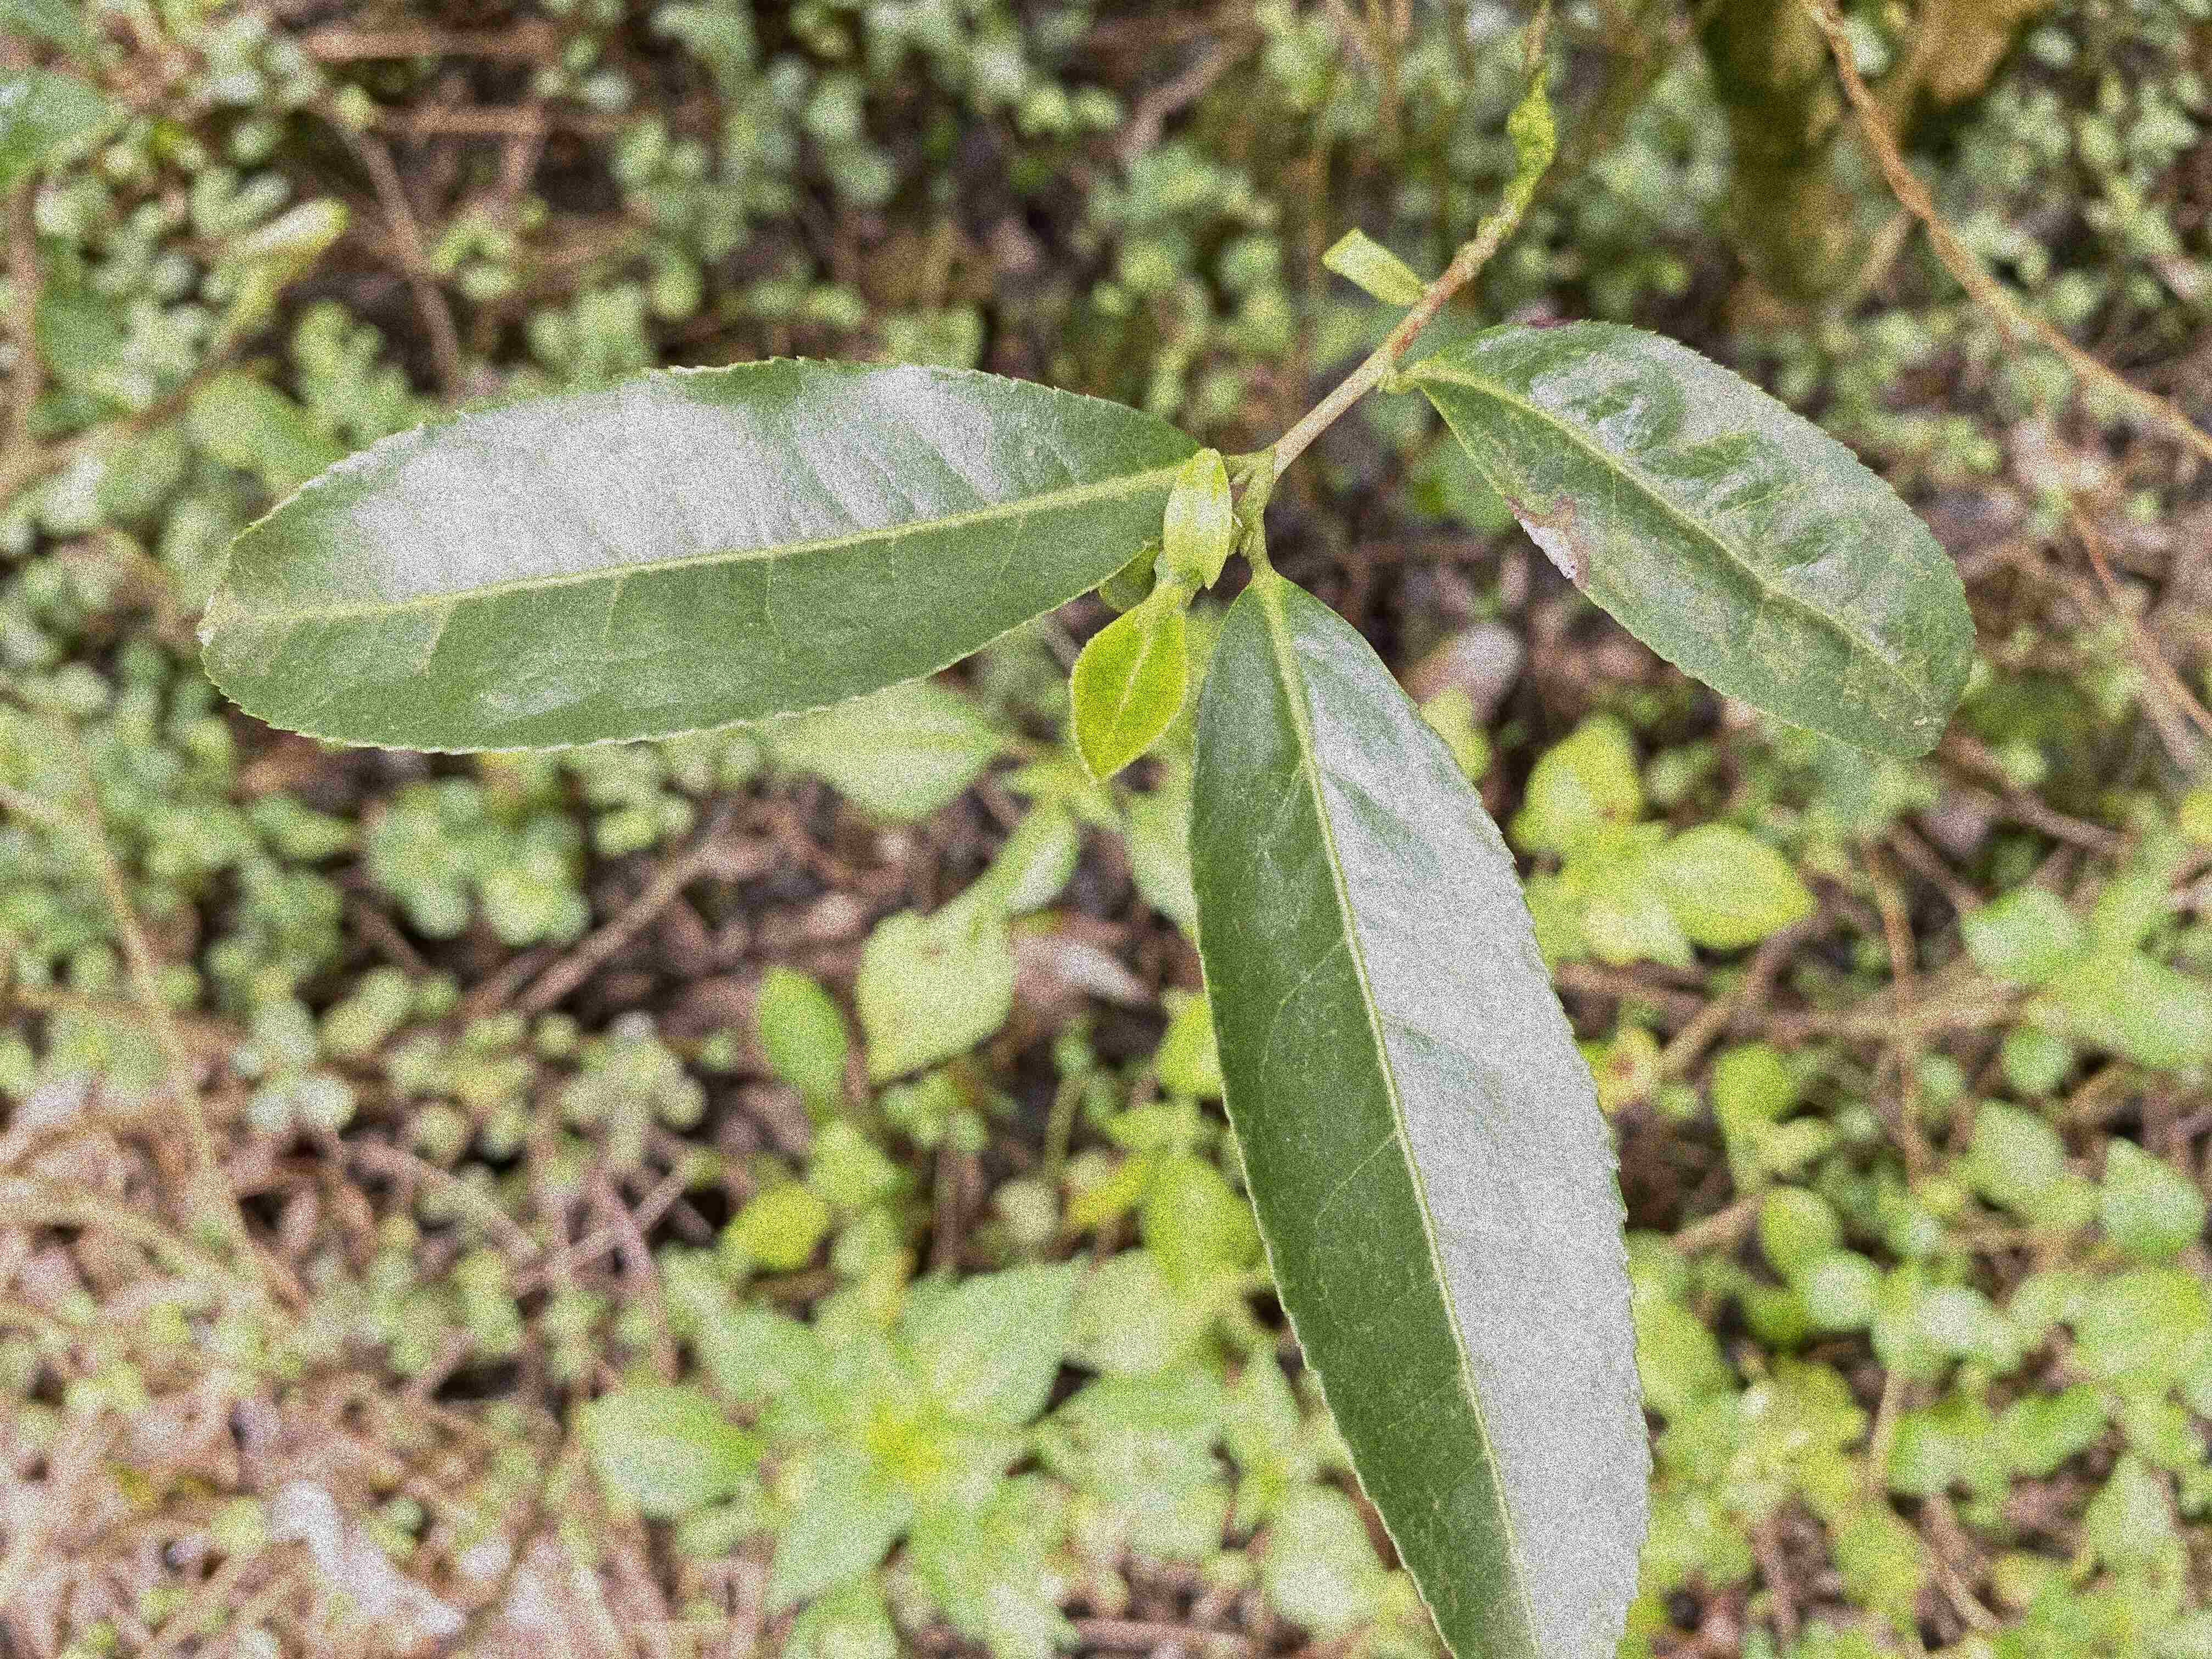healthy: (1188, 566, 1655, 1656), (206, 350, 1197, 755), (1066, 587, 1190, 784)
tanju_high: (1414, 319, 1984, 762)
